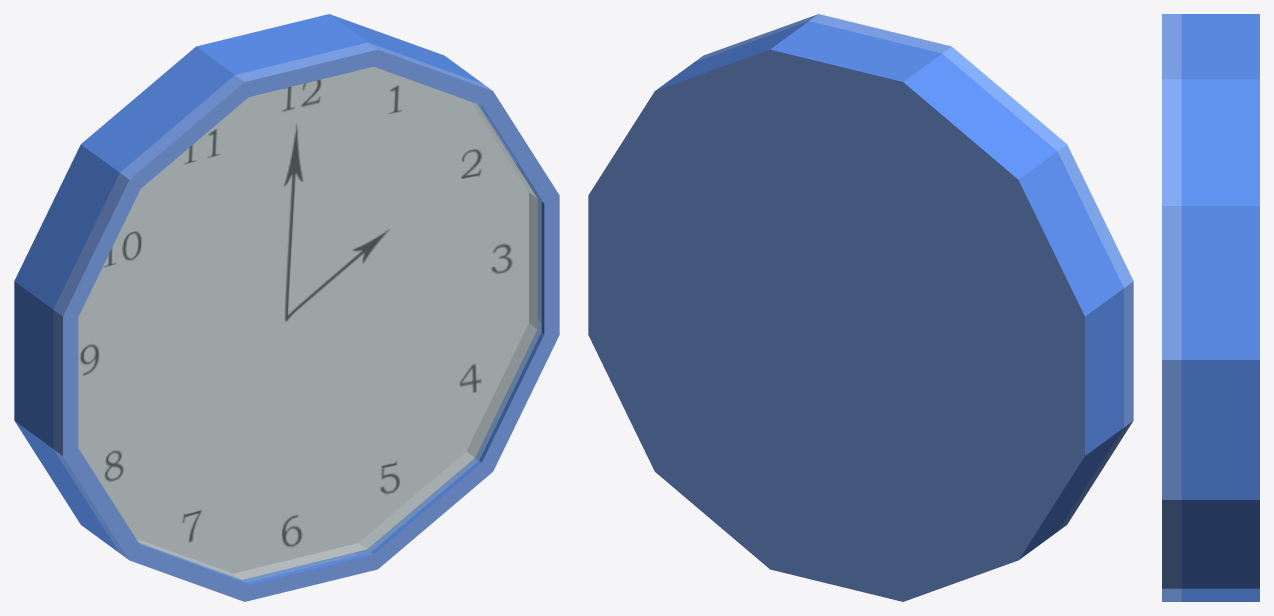
The model's file is Clock.fbx.
The picture shows the model from 3 angles, left to right: view 1: azimuth 30°, elevation 25°; view 2: azimuth 150°, elevation 25°; view 3: azimuth 270°, elevation 25°; orthographic projection.
Visible parts, largest first — view 1: Clock; view 2: Clock; view 3: Clock.
Boxes of the visible parts, x1,y1,x2,y2 form: Clock: (14,14,559,601); Clock: (588,14,1133,601); Clock: (1162,14,1259,601).
Bounding box in the file's own units: 47.62 × 47.62 × 8.07.
2 materials, 1 textured.
